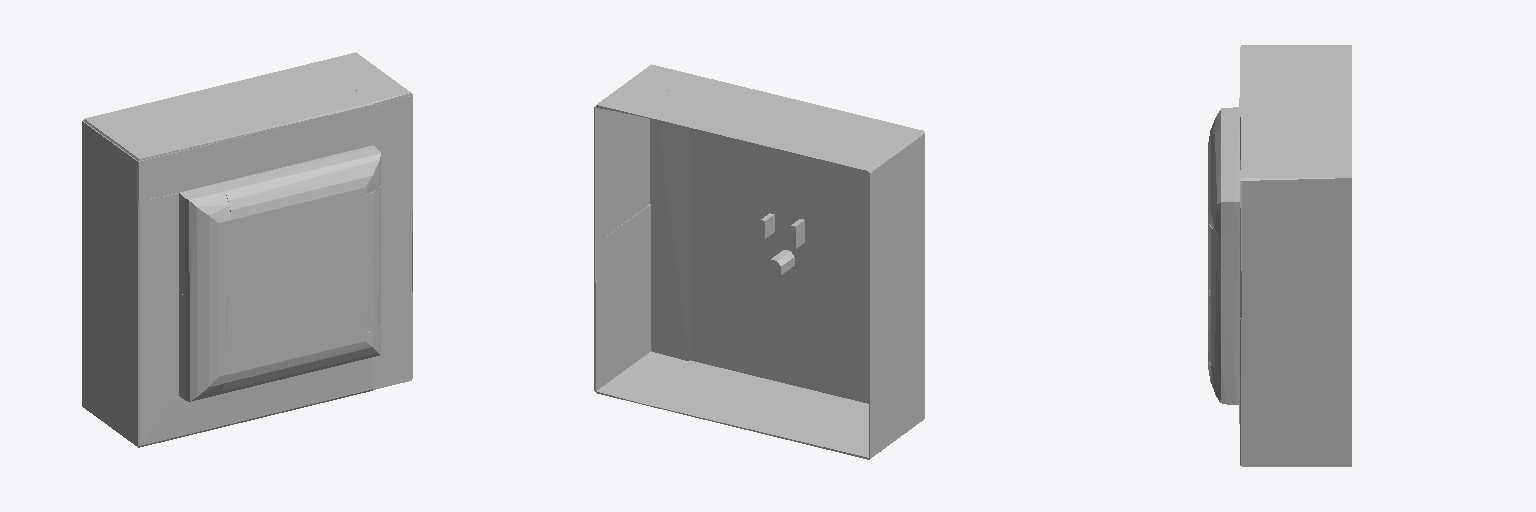
File: Socket_US_vhacd2.obj
3 views of the same model, side by side, from view 1: azimuth 30°, elevation 25°; view 2: azimuth 150°, elevation 25°; view 3: azimuth 270°, elevation 25° (orthographic).
Parts seen in each view (by area): view 1: convex_19, convex_12, convex_4, convex_1, convex_6, convex_8, convex_18, convex_16, convex_15, convex_17, convex_10, convex_5 (+1 smaller); view 2: convex_12, convex_4, convex_1, convex_0, convex_8, convex_2, convex_9, convex_5, convex_3, convex_7; view 3: convex_2, convex_9, convex_1, convex_10, convex_18, convex_3, convex_17.
Boxes of the visible parts, x1=… form: convex_19: x1=226, y1=197, x2=368, y2=366; convex_12: x1=140, y1=145, x2=372, y2=445; convex_4: x1=82, y1=162, x2=139, y2=445; convex_1: x1=83, y1=62, x2=372, y2=160; convex_6: x1=137, y1=105, x2=372, y2=201; convex_8: x1=373, y1=96, x2=412, y2=389; convex_18: x1=217, y1=146, x2=380, y2=227; convex_16: x1=179, y1=184, x2=231, y2=298; convex_15: x1=179, y1=292, x2=225, y2=401; convex_17: x1=220, y1=324, x2=380, y2=393; convex_10: x1=358, y1=186, x2=380, y2=330; convex_5: x1=82, y1=121, x2=136, y2=200; convex_12: x1=690, y1=129, x2=868, y2=403; convex_4: x1=869, y1=174, x2=924, y2=457; convex_1: x1=635, y1=74, x2=923, y2=172; convex_0: x1=635, y1=360, x2=924, y2=459; convex_8: x1=650, y1=119, x2=689, y2=360; convex_2: x1=594, y1=204, x2=650, y2=391; convex_9: x1=594, y1=106, x2=649, y2=243; convex_5: x1=868, y1=133, x2=924, y2=213; convex_3: x1=596, y1=64, x2=688, y2=114; convex_7: x1=596, y1=351, x2=688, y2=402; convex_2: x1=1240, y1=318, x2=1351, y2=465; convex_9: x1=1242, y1=182, x2=1351, y2=318; convex_1: x1=1240, y1=45, x2=1351, y2=159; convex_10: x1=1208, y1=223, x2=1238, y2=371; convex_18: x1=1208, y1=125, x2=1238, y2=233; convex_3: x1=1240, y1=159, x2=1351, y2=181; convex_17: x1=1208, y1=361, x2=1238, y2=404.
Bounding box in the file's own units: 0.115 × 0.115 × 0.0518.